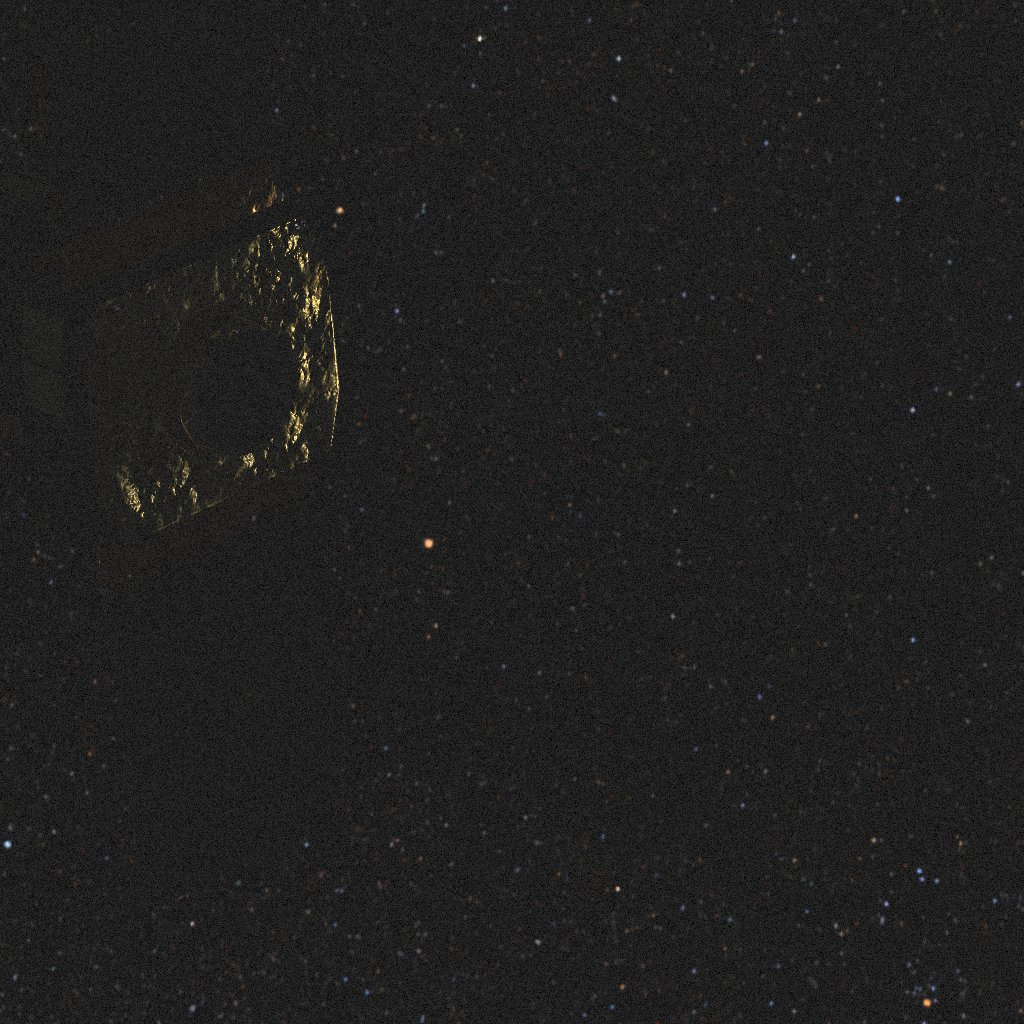soho: (0, 0, 346, 915)
